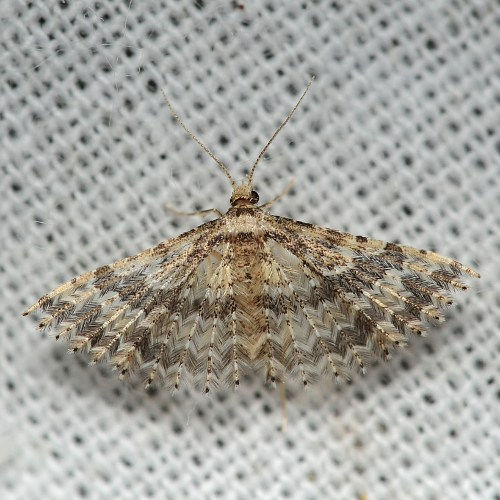Alucitidae: (22, 72, 481, 400)
moth: (20, 70, 479, 398)
